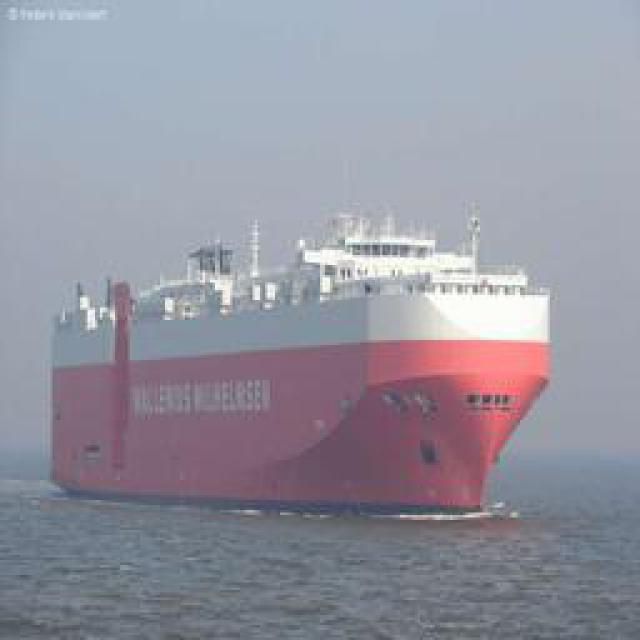Ship: (45, 208, 553, 503)
